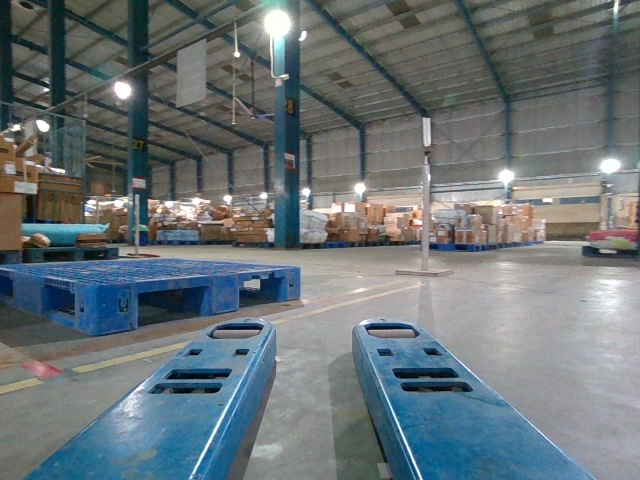block: (95, 282, 140, 334), (14, 271, 43, 318), (211, 273, 240, 317), (284, 265, 302, 302)
front: (96, 266, 299, 334)
hole pallet: (136, 284, 212, 326), (239, 275, 288, 311)
